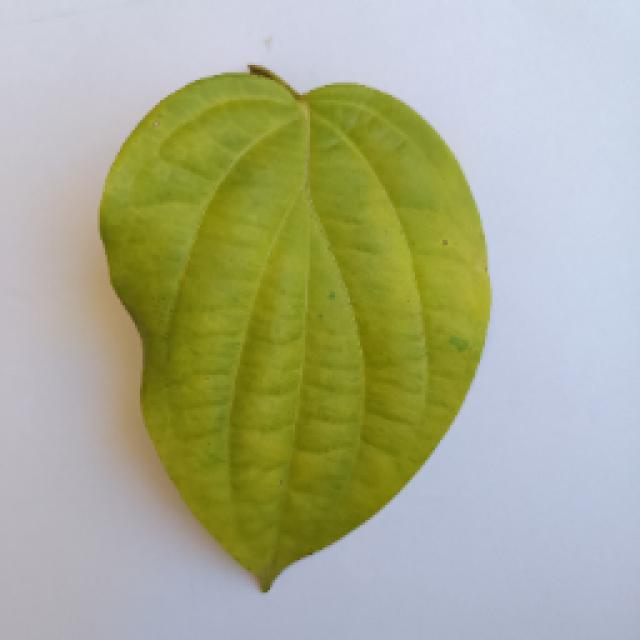slow-decline: (80, 65, 510, 590)
